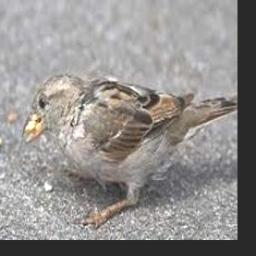Sparrow: (21, 73, 237, 228)
